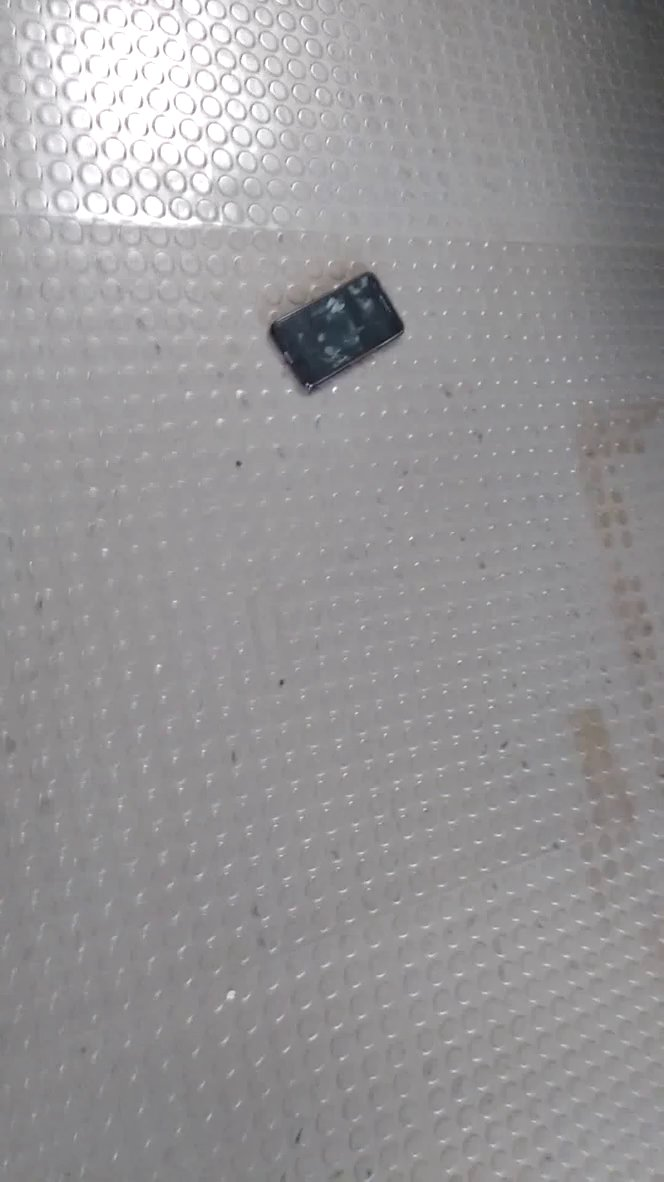phone: (253, 262, 419, 402)
